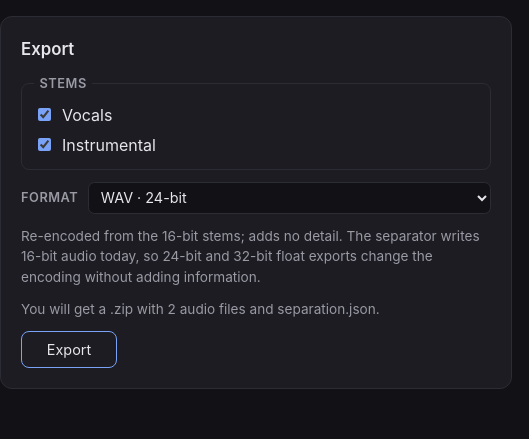
it: ExportPanel errors › explains a cancelled job
Click the button "Export": (69, 350) [21,331,117,368]
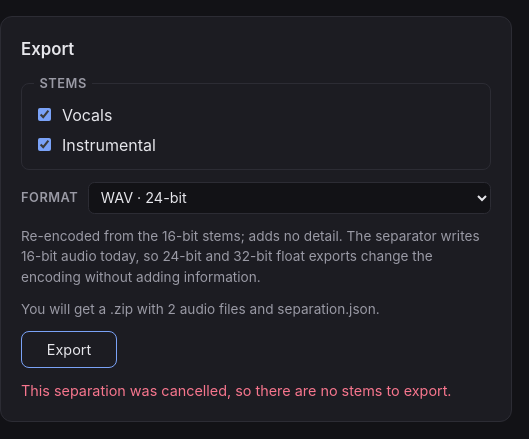
Expected: the message reads "This separation was cancelled, so there are no stems to export.", [21,382,452,399]
